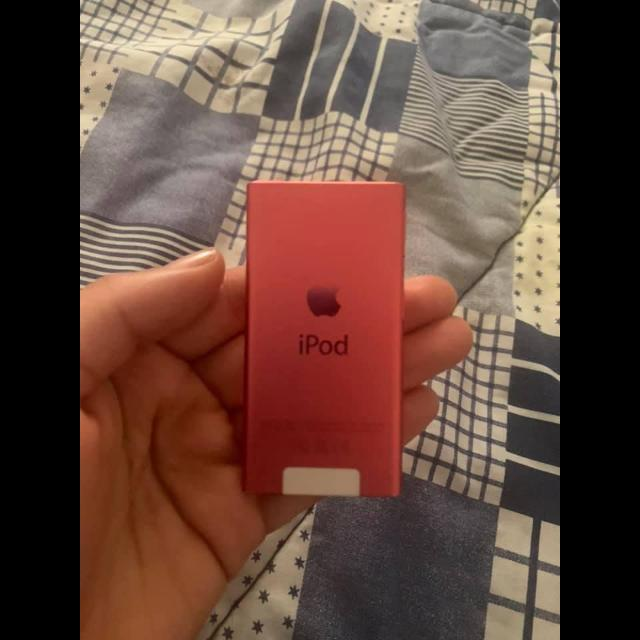Music-Player: (220, 165, 432, 513)
